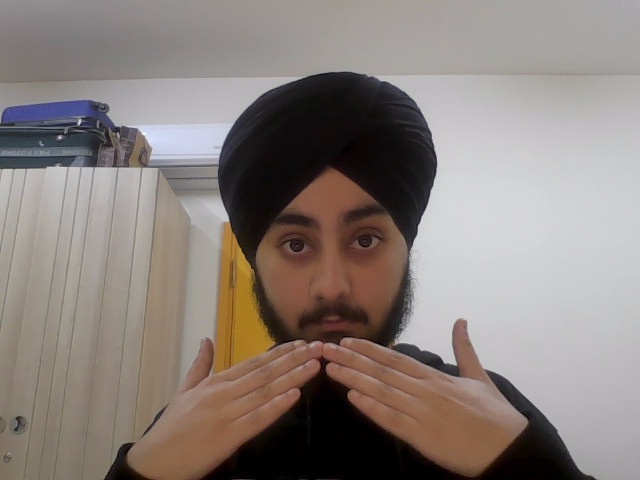Thanks: (134, 313, 532, 478)
